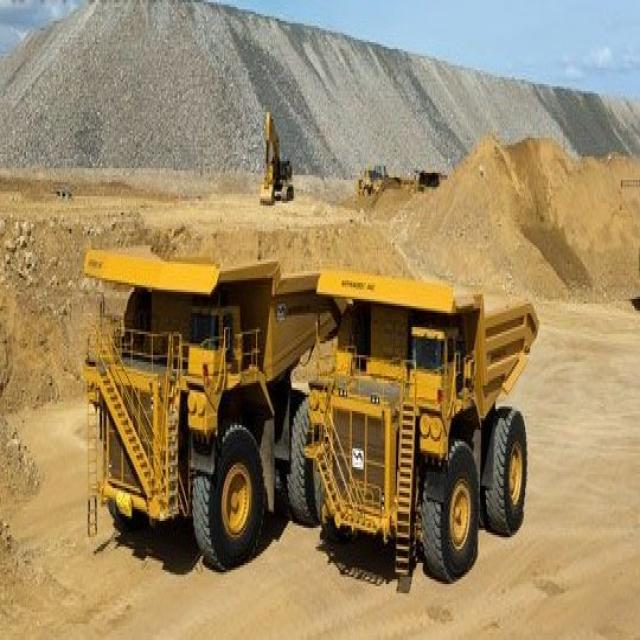dump_truck: (74, 217, 318, 577), (313, 254, 537, 588)
excavator: (256, 94, 302, 210)
